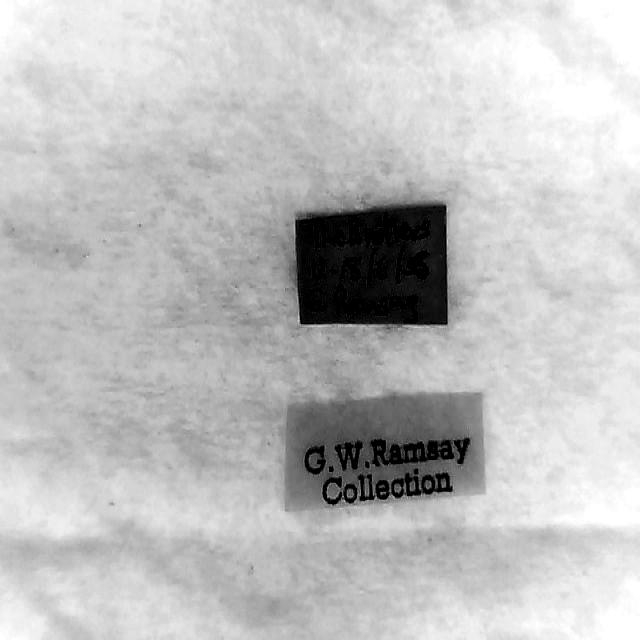hand_label: (296, 205, 446, 324)
typed_label: (285, 393, 483, 509)
